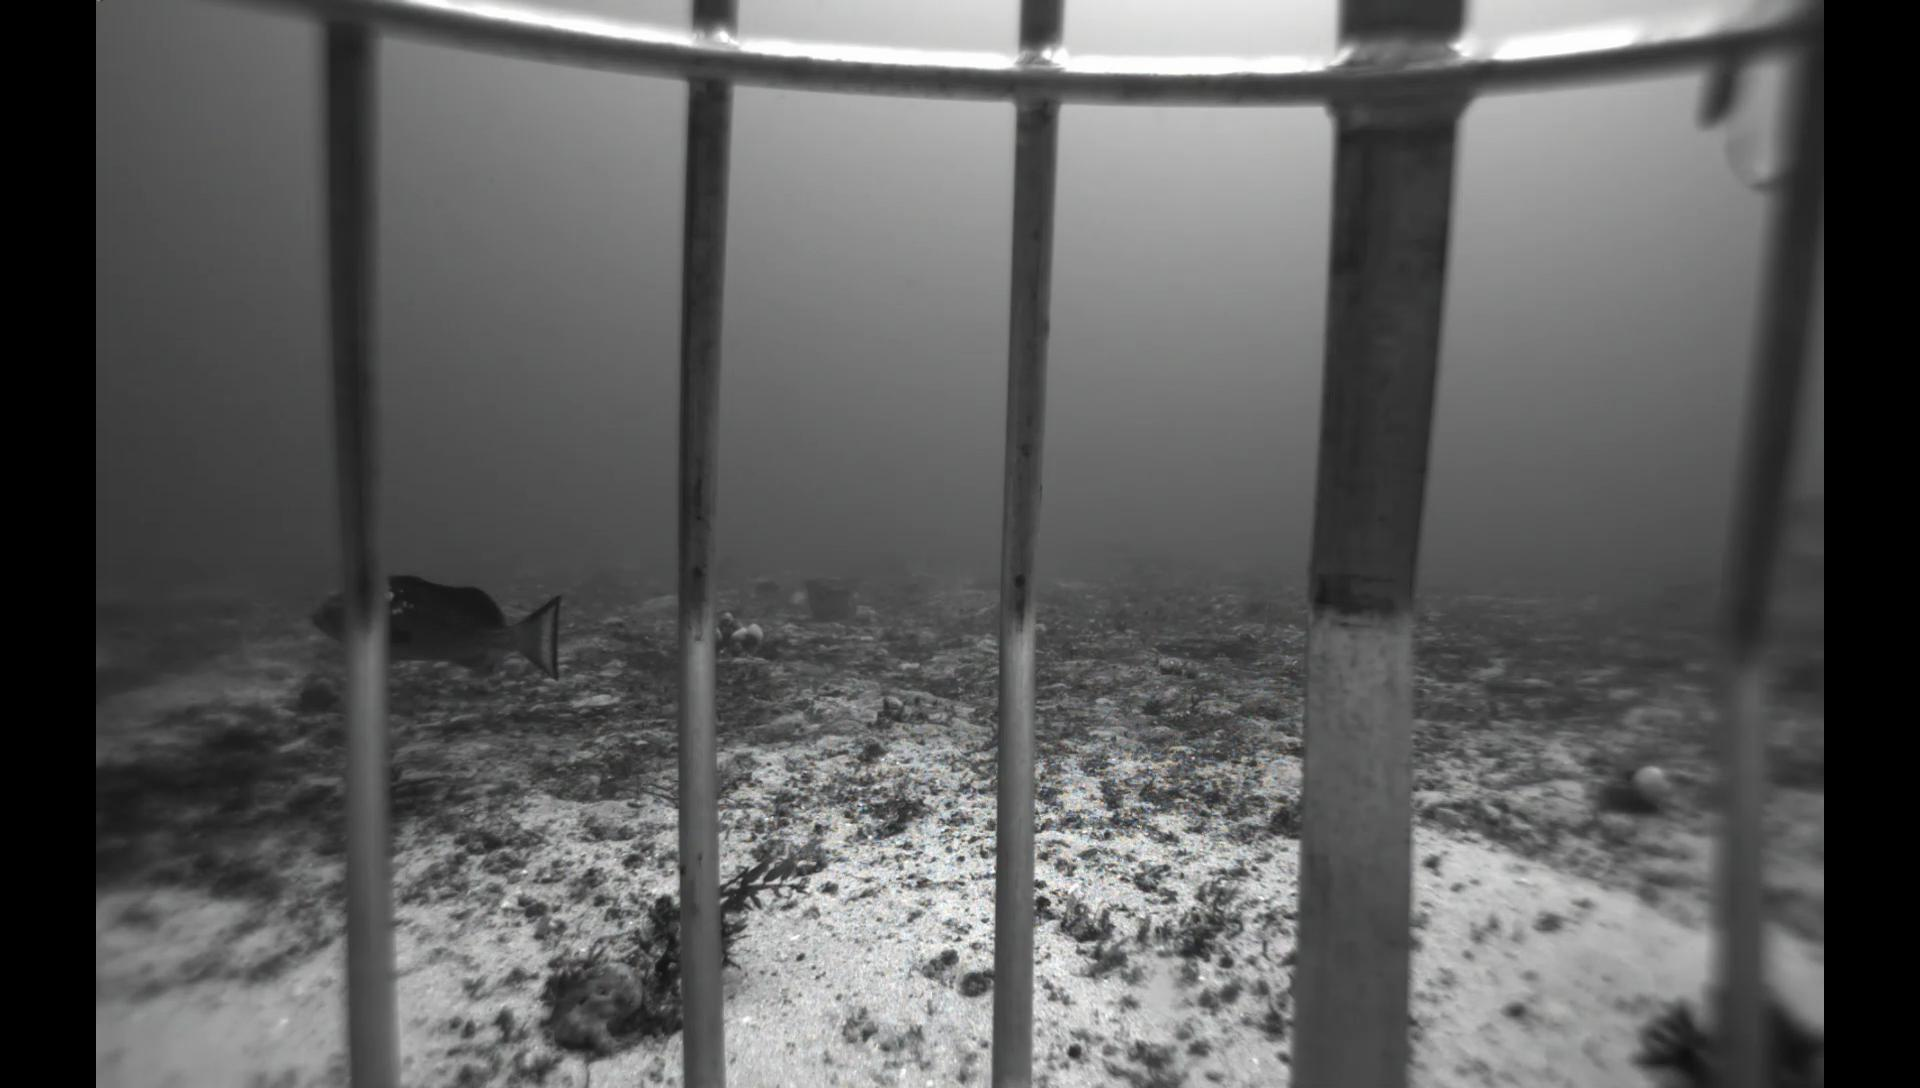CALAMUSNODOSUS-170210608: (1767, 493, 1824, 629)
CHAETODONOCELLATUS-170260307: (1035, 580, 1069, 603), (785, 589, 808, 608)
EPINEPHELUSMORIO-170021211: (295, 566, 587, 692)
PRISTIGENYSALTA-170050401: (291, 682, 348, 717)
